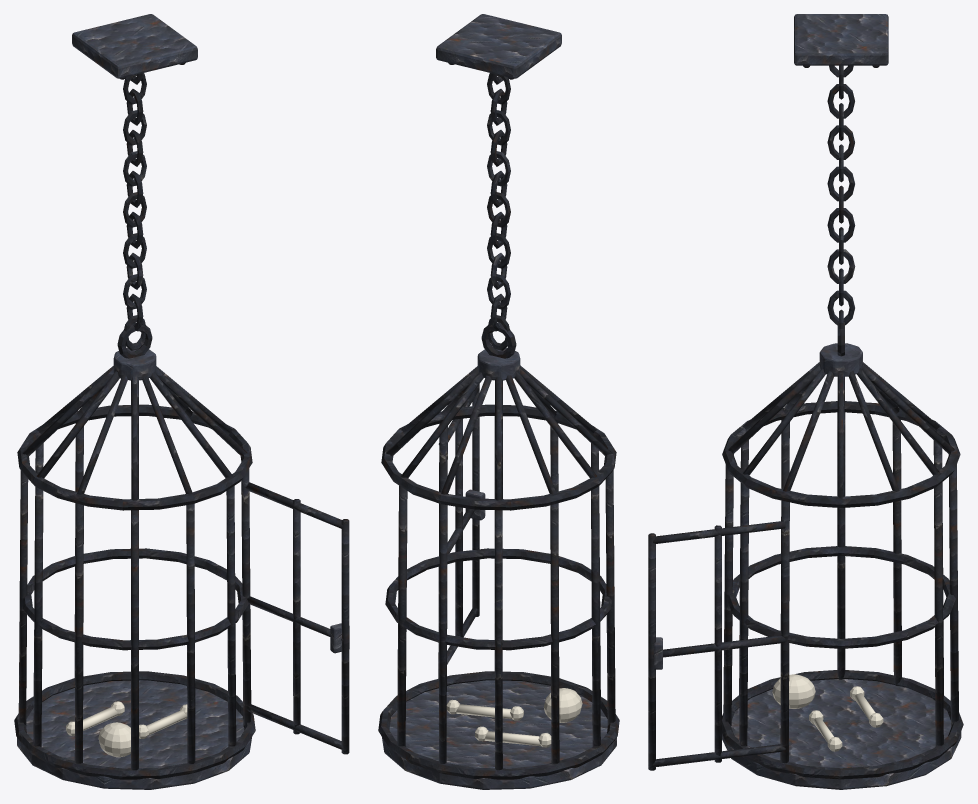
File: hanging_cage.glb
3 renders of one model, left to right at view 1: azimuth 30°, elevation 25°; view 2: azimuth 150°, elevation 25°; view 3: azimuth 270°, elevation 25°, orthographic.
Parts seen in each view (by area): view 1: model; view 2: model; view 3: model.
Boxes of the visible parts, bbox=[...] form: model: bbox=[14, 14, 349, 789]; model: bbox=[378, 14, 619, 789]; model: bbox=[648, 14, 963, 789].
Size of the model in its own units: 0.8398 by 2.48 by 1.
Materials: 5 (2 with a texture image).
